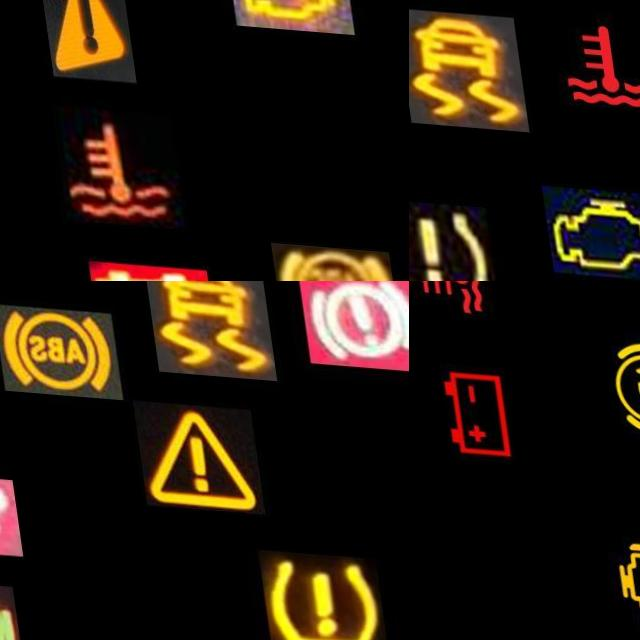Central Warning lamp: (123, 395, 253, 508), (30, 0, 126, 80)
Engine cooling system: (41, 105, 171, 227), (539, 0, 640, 121)
High Engine Coolant Temperature: (409, 281, 495, 325)
